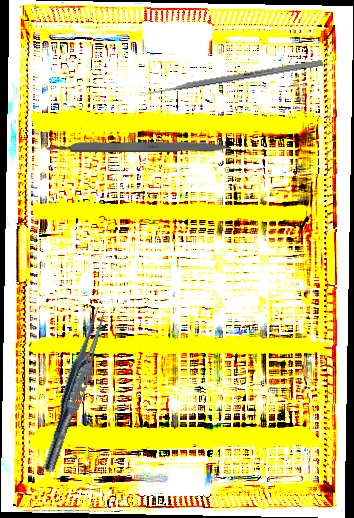Pusher: (136, 58, 324, 99)
Scalpel Handle: (46, 140, 231, 152)
Tissue Forceps: (38, 302, 112, 477)
